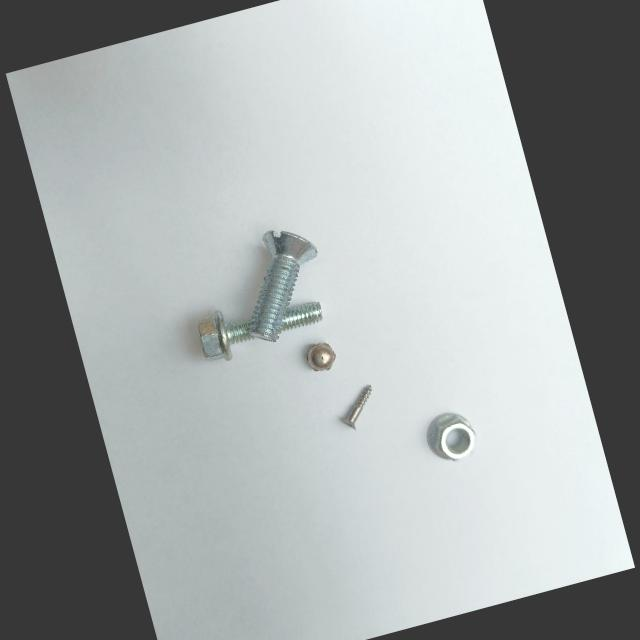bolt: (248, 230, 317, 342), (198, 301, 322, 360), (340, 384, 371, 429)
nuts: (426, 412, 475, 460), (305, 342, 336, 371)
